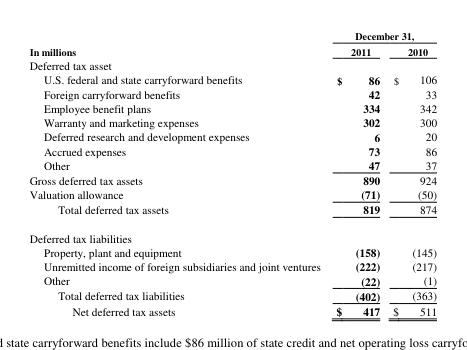table: (28, 28, 436, 318)
table column: (28, 28, 327, 318), (327, 28, 385, 318), (385, 28, 436, 318)
table column header: (28, 28, 436, 57)
table projected row header: (28, 223, 436, 244), (28, 57, 436, 71)
table row: (28, 201, 436, 223), (28, 223, 436, 244), (28, 287, 436, 303), (28, 28, 436, 43), (28, 71, 436, 86), (28, 100, 436, 115), (28, 157, 436, 172), (28, 172, 436, 187), (28, 258, 436, 273), (28, 303, 436, 318), (28, 43, 436, 57), (28, 57, 436, 71), (28, 86, 436, 100), (28, 115, 436, 129), (28, 129, 436, 143), (28, 143, 436, 157), (28, 187, 436, 201), (28, 244, 436, 258), (28, 273, 436, 287)
table spanning cell: (28, 28, 327, 57), (327, 28, 436, 43)
